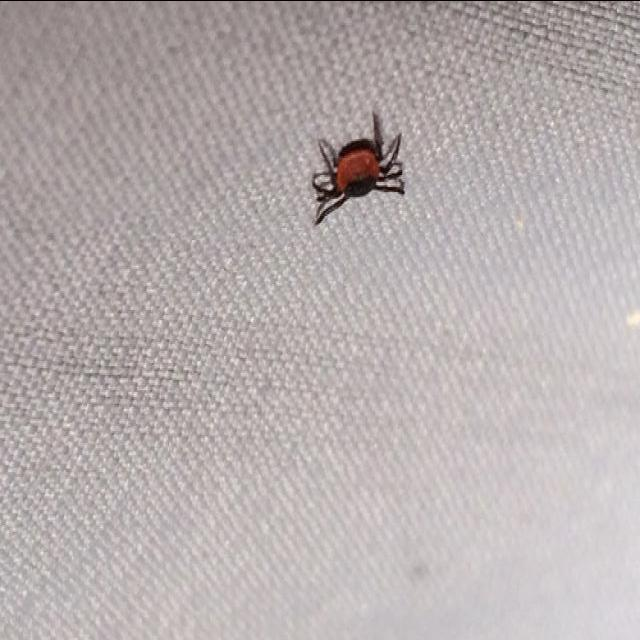Ixodes Ricinus-F: (311, 111, 406, 224)
